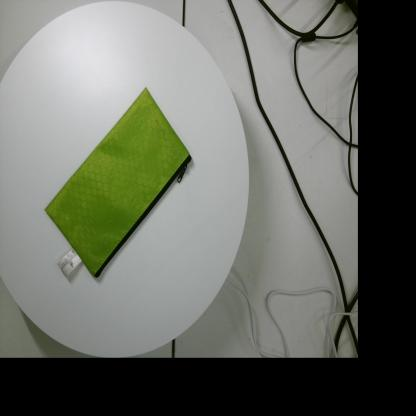Stationery: (44, 87, 192, 278)
